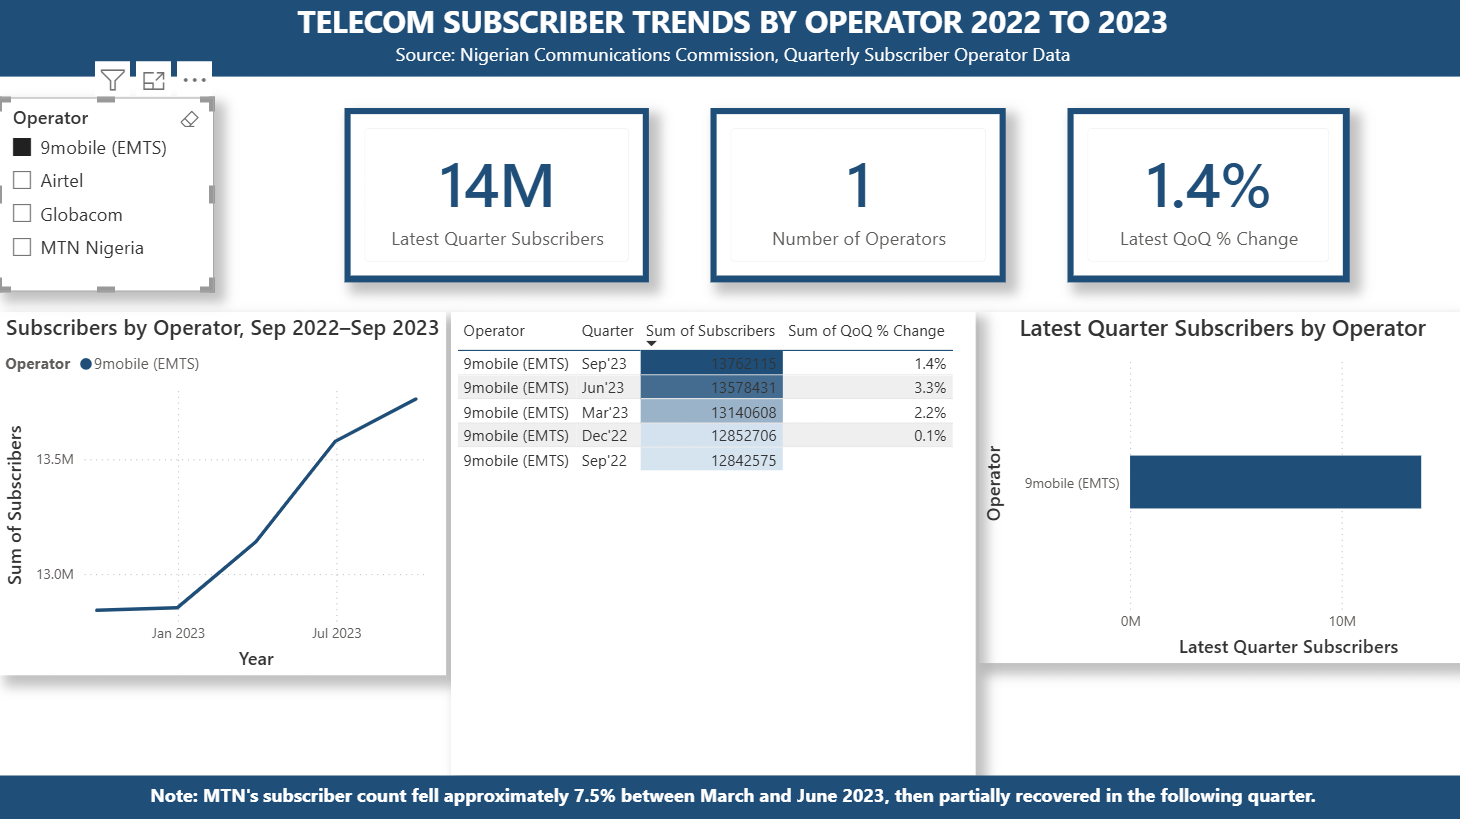

The page's visual inventory and layout, read from the dashboard file:
{"tool":"powerbi","page":{"name":"Page 1","canvas":[1280,720],"ordinal":0},"visuals":[{"type":"slicer","fields":{"Values":["MasterSubscriberData.Operator"]},"box":[0,90.2,188.3,168.7],"z":0},{"type":"lineChart","title":"Subscribers by Operator, Sep 2022–Sep 2023","fields":{"Series":["MasterSubscriberData.Operator"],"Category":["MasterSubscriberData.Quarter End Date.Variation.Date Hierarchy.Year","MasterSubscriberData.Quarter End Date.Variation.Date Hierarchy.Quarter","MasterSubscriberData.Quarter End Date.Variation.Date Hierarchy.Month","MasterSubscriberData.Quarter End Date.Variation.Date Hierarchy.Day"],"Y":["Sum(MasterSubscriberData.Subscribers)"]},"box":[1.3,277.2,389.6,316.4],"z":1000},{"type":"cardVisual","fields":{"Data":["MasterSubscriberData.Latest Quarter Subscribers"]},"box":[302,99.4,265.4,151.7],"z":2000},{"type":"cardVisual","fields":{"Data":["MasterSubscriberData.Number of Operators"]},"box":[621.1,99.4,257.6,151.7],"z":3000},{"type":"cardVisual","fields":{"Data":["MasterSubscriberData.Latest QoQ % Change"]},"box":[932.3,99.4,245.8,151.7],"z":4000},{"type":"clusteredBarChart","fields":{"Category":["MasterSubscriberData.Operator"],"Y":["MasterSubscriberData.Latest Quarter Subscribers"]},"box":[855.1,277.2,424.9,306],"z":5000},{"type":"tableEx","fields":{"Values":["MasterSubscriberData.Operator","MasterSubscriberData.Quarter","Sum(MasterSubscriberData.Subscribers)","Sum(MasterSubscriberData.QoQ % Change)"]},"box":[394.2,277.2,457.6,404],"z":6000},{"type":"textbox","box":[1.3,0,1278.8,71.9],"z":7000},{"type":"textbox","box":[1.3,681.2,1278.8,39.2],"z":8000}]}

Visuals, with their boxes in screenshot pixels (x1, y1, x2, y2), scaled from the page's 1280x720 canvas onto the 1460x819 screenshot:
slicer - MasterSubscriberData.Operator: <region>0, 103, 215, 294</region>
"Subscribers by Operator, Sep 2022–Sep 2023" lineChart: <region>1, 315, 446, 675</region>
cardVisual - MasterSubscriberData.Latest Quarter Subscribers: <region>344, 113, 647, 286</region>
cardVisual - MasterSubscriberData.Number of Operators: <region>708, 113, 1002, 286</region>
cardVisual - MasterSubscriberData.Latest QoQ % Change: <region>1063, 113, 1344, 286</region>
clusteredBarChart - MasterSubscriberData.Operator x MasterSubscriberData.Latest Quarter Subscribers: <region>975, 315, 1459, 663</region>
tableEx - MasterSubscriberData.Operator x MasterSubscriberData.Quarter: <region>450, 315, 972, 775</region>
textbox: <region>1, 0, 1459, 82</region>
textbox: <region>1, 775, 1459, 818</region>
